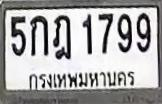1: (82, 13, 92, 54)
5: (10, 15, 25, 55)
7: (97, 13, 112, 53)
9: (136, 12, 150, 52), (117, 13, 131, 52)
A01: (29, 15, 48, 55)
A14: (52, 14, 70, 59)
BKK: (24, 65, 140, 92)
